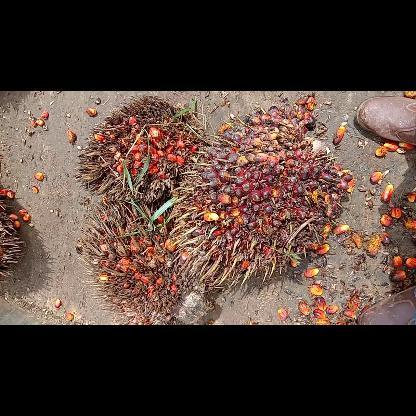TBS masak: (170, 103, 352, 291)
Terlalu masak: (75, 198, 217, 324), (74, 93, 206, 205)
